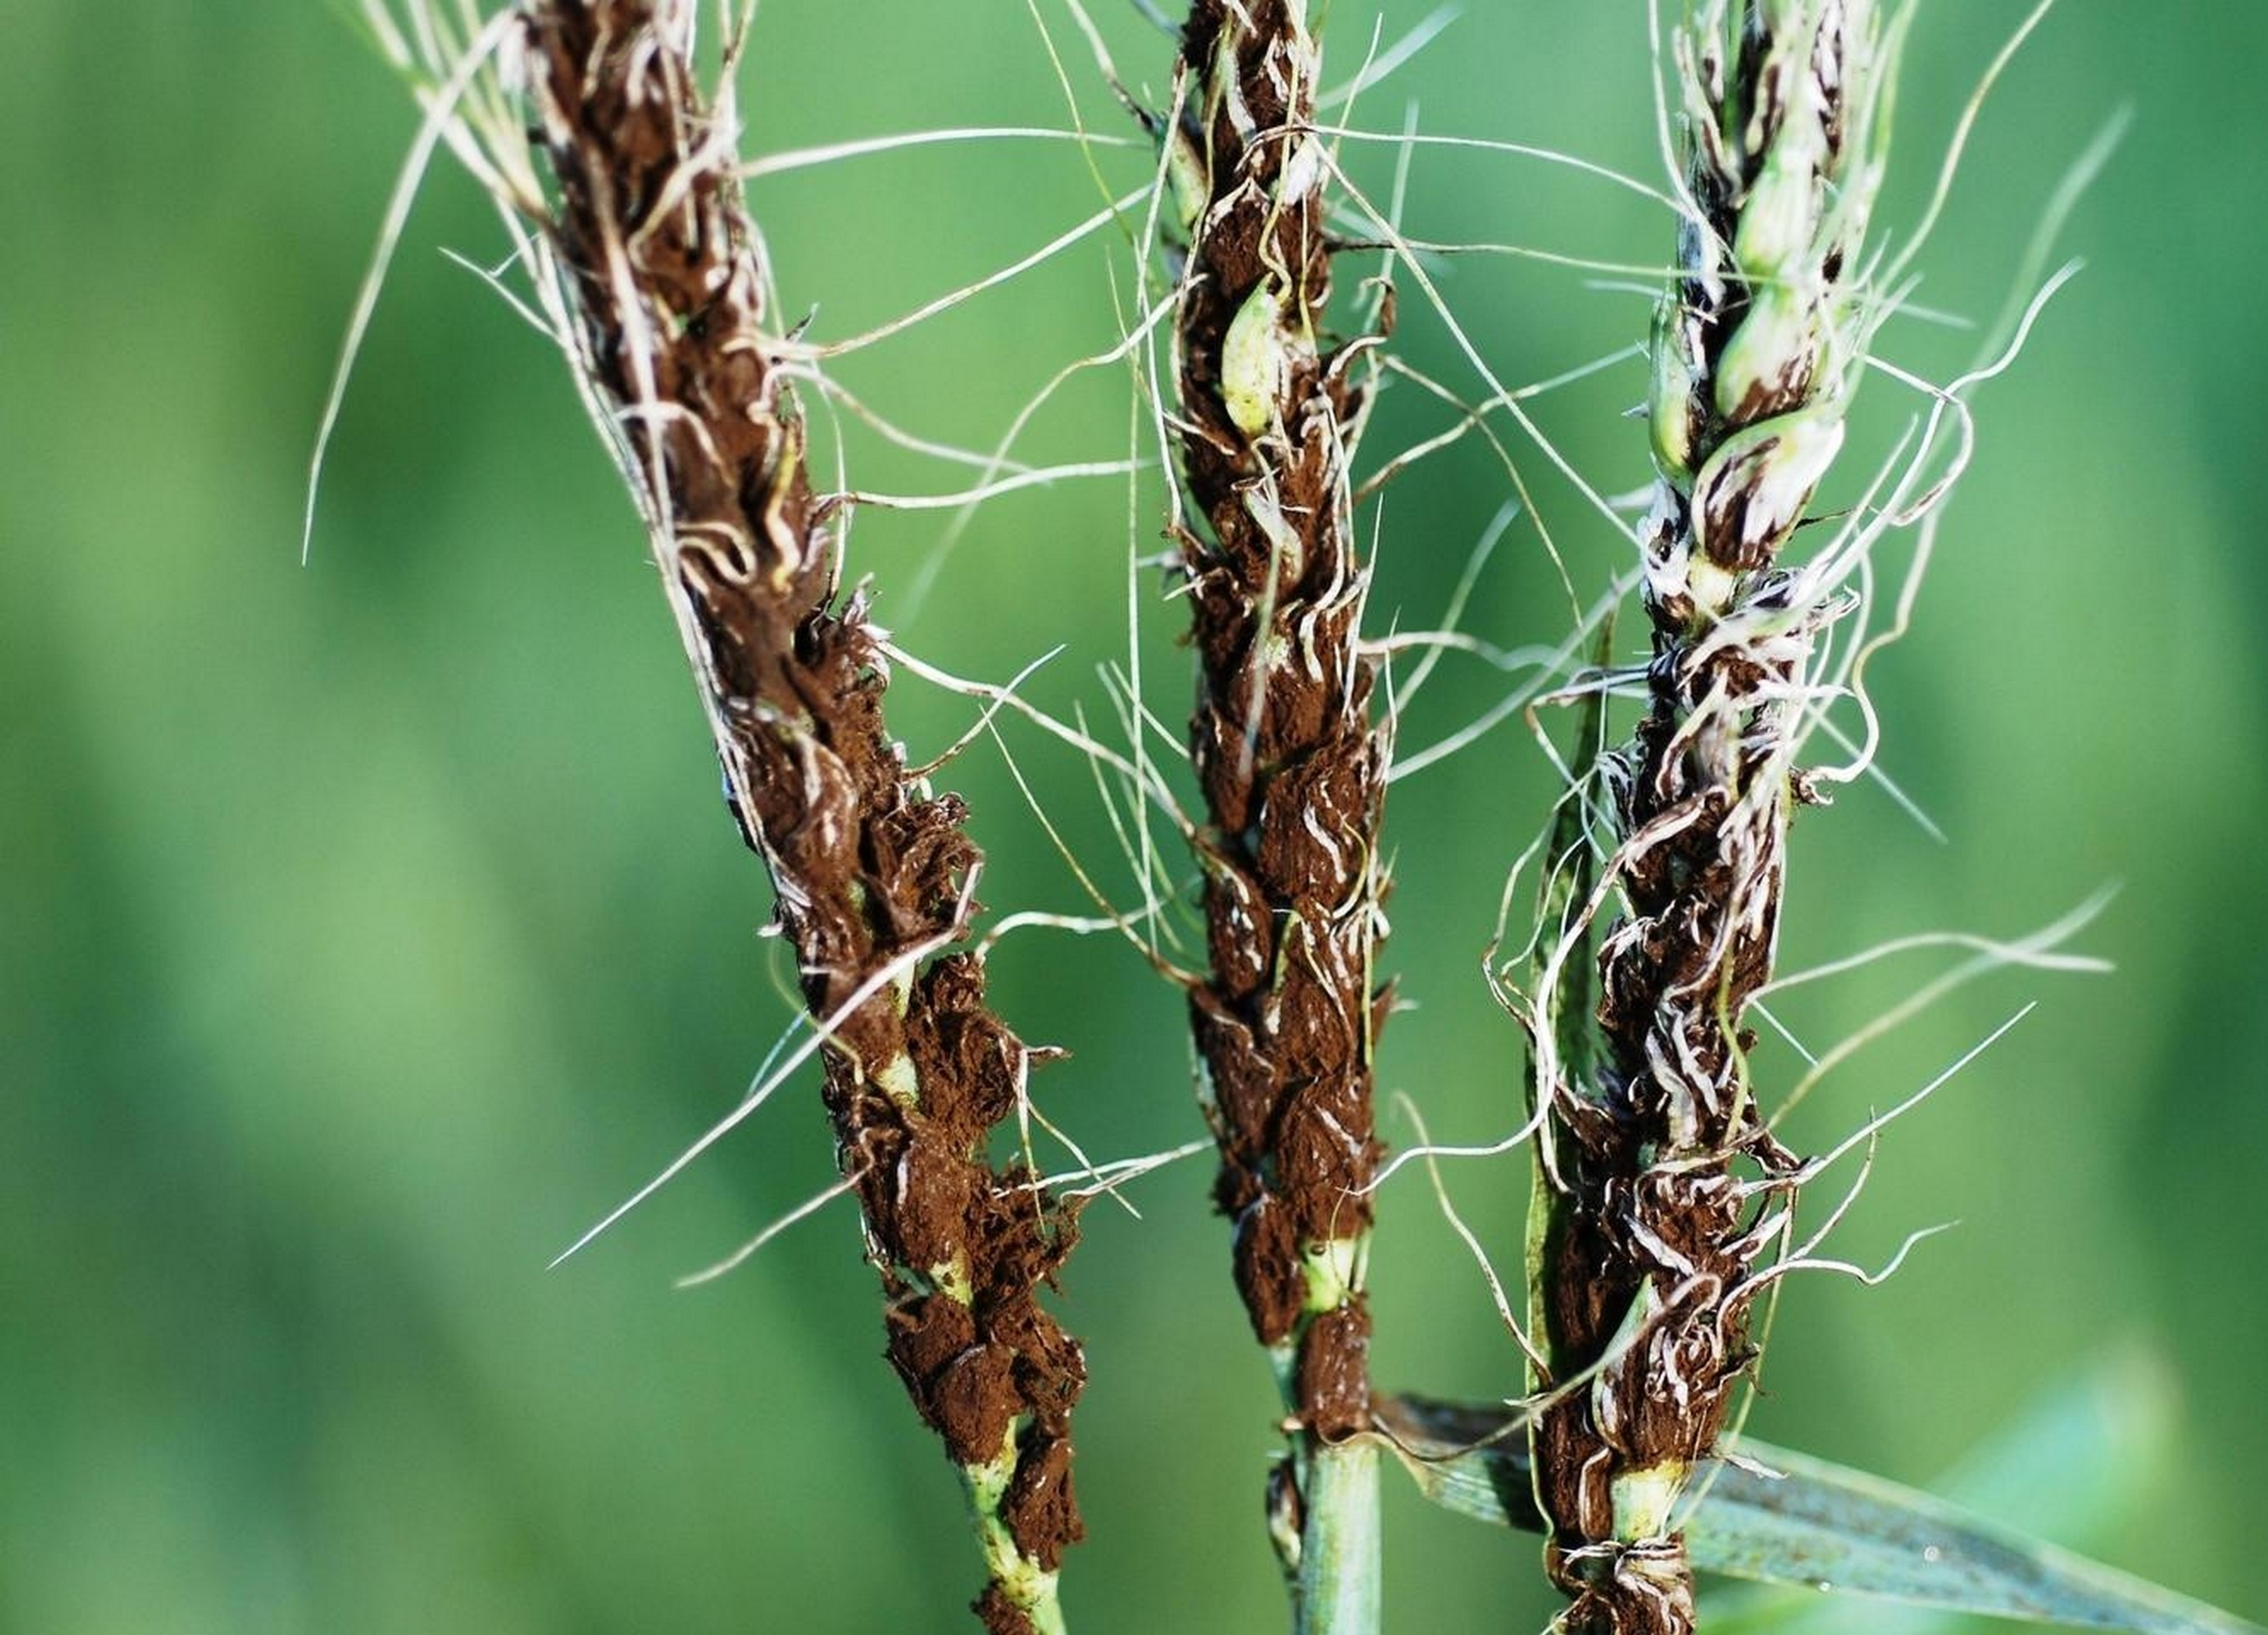Wheat Loose Smut: (507, 32, 1101, 1554), (1134, 28, 1497, 1425), (1506, 164, 1844, 1549)
